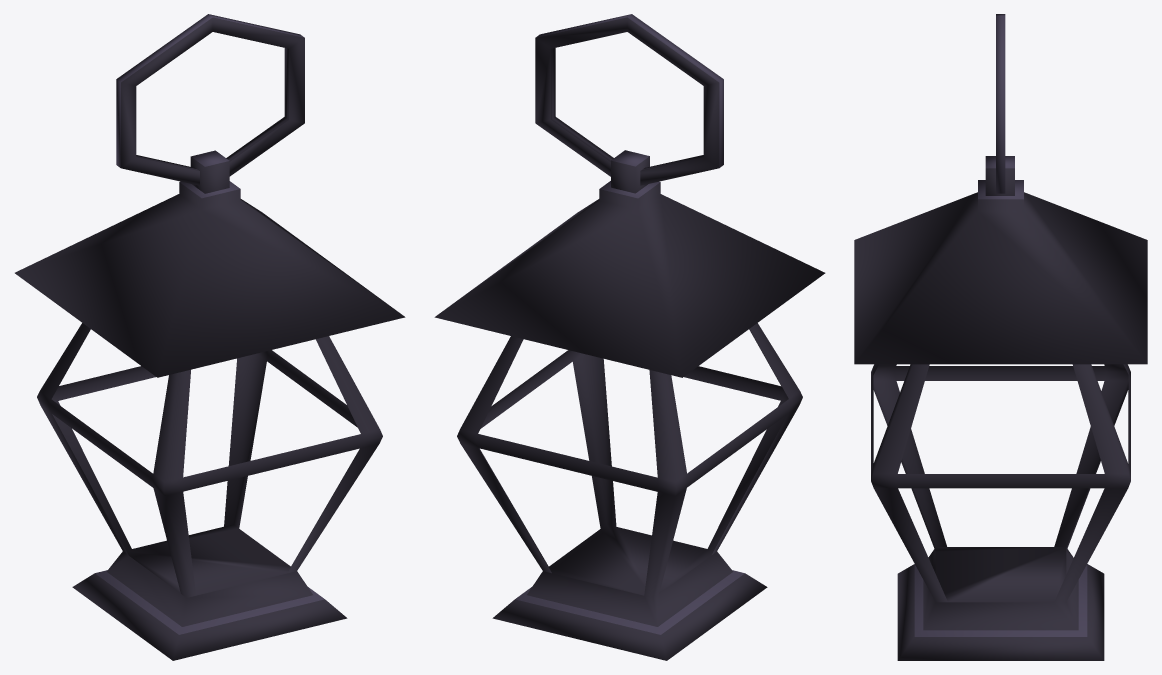
The model's file is Lantern2.fbx.
3 renders of one model, left to right at view 1: azimuth 30°, elevation 25°; view 2: azimuth 150°, elevation 25°; view 3: azimuth 270°, elevation 25°, orthographic. The views are drawn at different scales.
Visible parts, largest first — view 1: Lantern; view 2: Lantern; view 3: Lantern.
Boxes of the visible parts, bbox=[...] form: Lantern: bbox=[15, 14, 405, 660]; Lantern: bbox=[434, 14, 825, 660]; Lantern: bbox=[854, 14, 1147, 660].
Size of the model in its own units: 55.5 by 125 by 55.5.
1 material, 1 textured.
